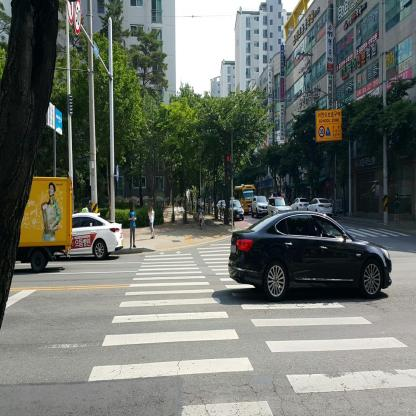Red: (226, 154, 230, 176)
